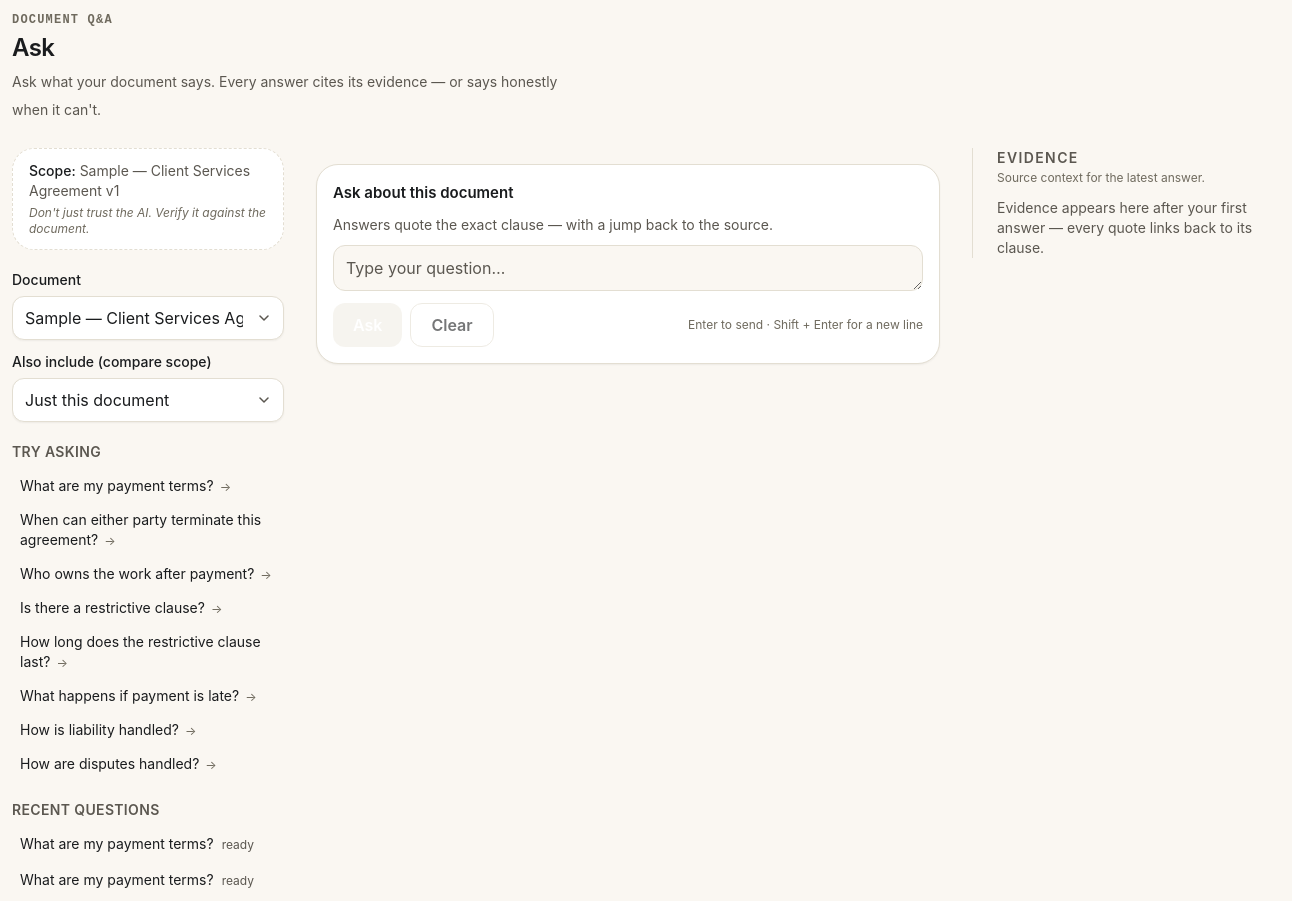
AskWorkspace › shows the unavailable state without losing the draft scope
Type "What are my payment terms?" into the text box labelled "Ask about this document" at (628, 268), box [333,245,923,291]
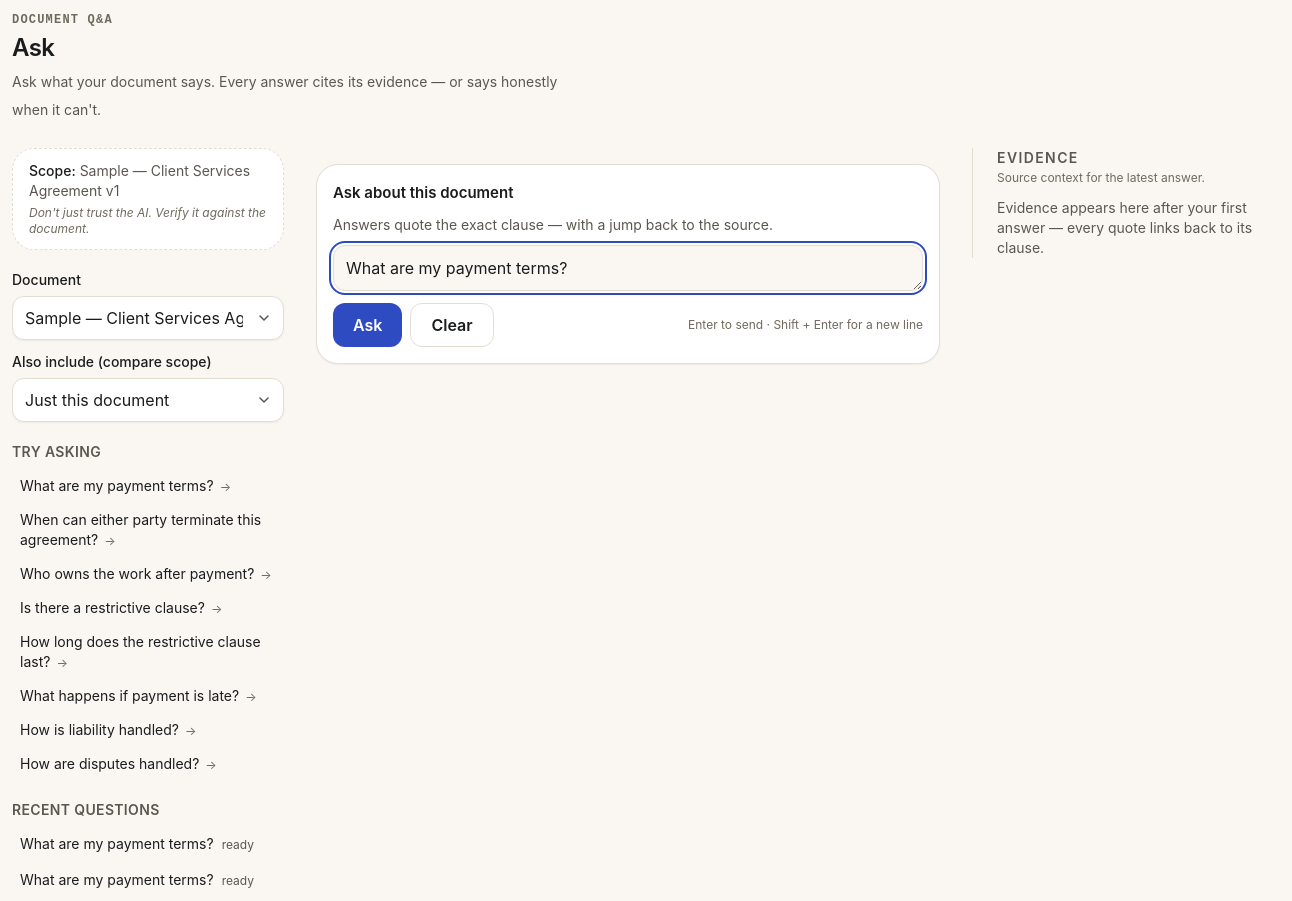
Click the button "Ask" at (368, 325), box [333,303,402,347]
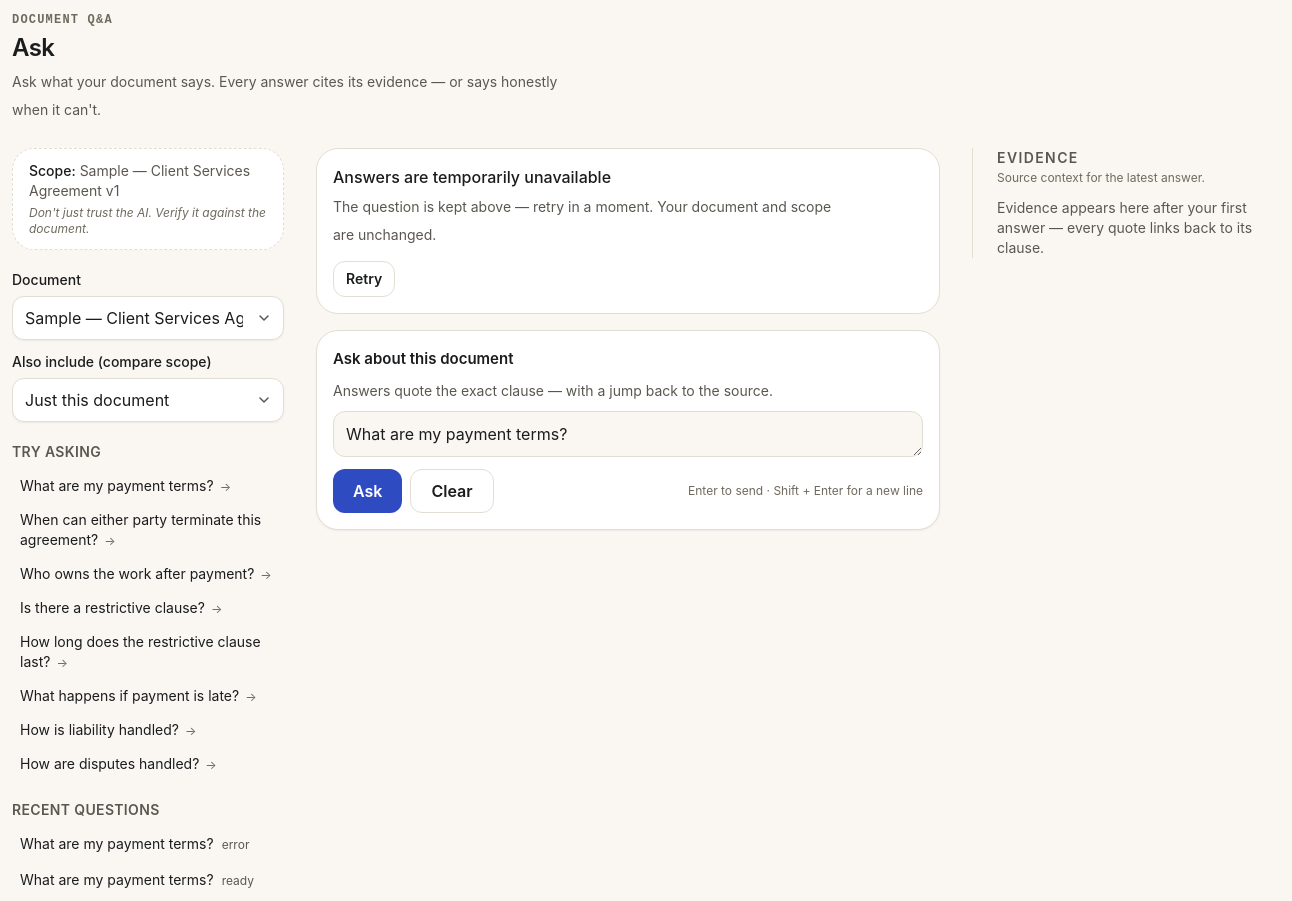
Check: the text "Answers are temporarily unavailable" is shown, box [333,167,611,187]
Check: the button "Retry" is shown, box [333,261,395,297]
